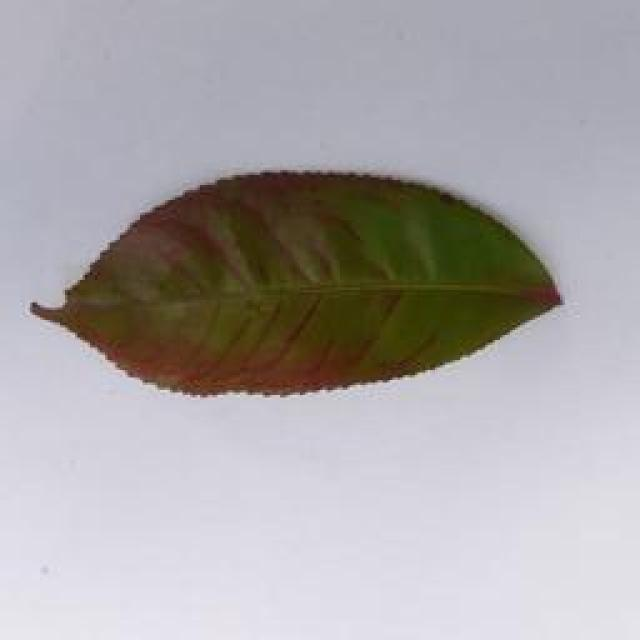Red Leaf Spot: (20, 166, 593, 405)
